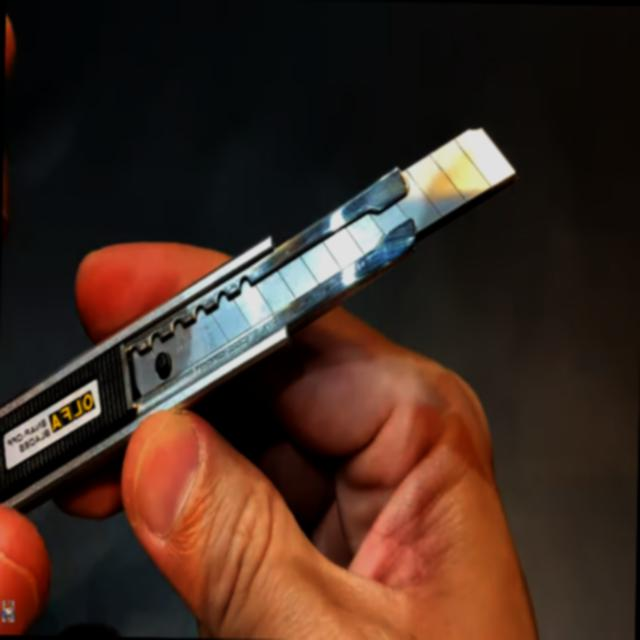cutter: (0, 98, 545, 521)
